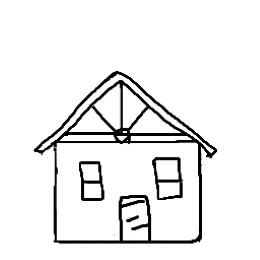bottom_placed_house: (3, 3, 260, 260)
closed_window: (71, 156, 111, 203), (151, 151, 188, 201)
door: (112, 191, 156, 247)
roof: (22, 62, 223, 158)
wall: (43, 131, 215, 249)
